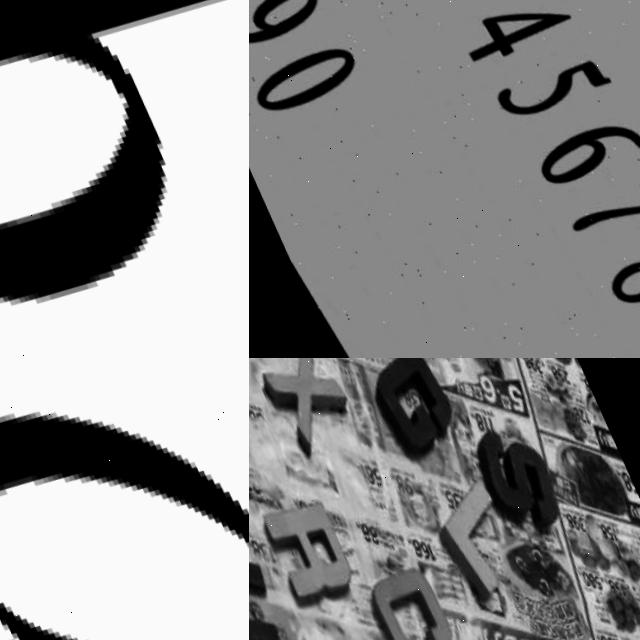0: (249, 11, 386, 146)
4: (423, 0, 595, 91)
5: (455, 9, 639, 159)
6: (488, 71, 640, 219)
7: (521, 136, 640, 280)
8: (550, 187, 640, 342)
9: (249, 0, 351, 83)
C: (356, 557, 458, 640)
D: (0, 358, 249, 640)
G: (359, 358, 464, 452)
L: (422, 470, 530, 604)
R: (258, 489, 354, 598)
S: (473, 417, 568, 530)
U: (249, 523, 295, 640)
X: (249, 358, 361, 458)
Y: (494, 618, 588, 640)
